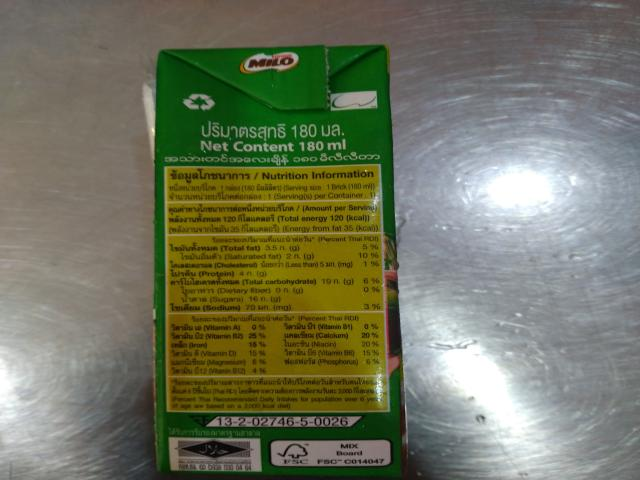drink_box: (155, 45, 403, 477)
